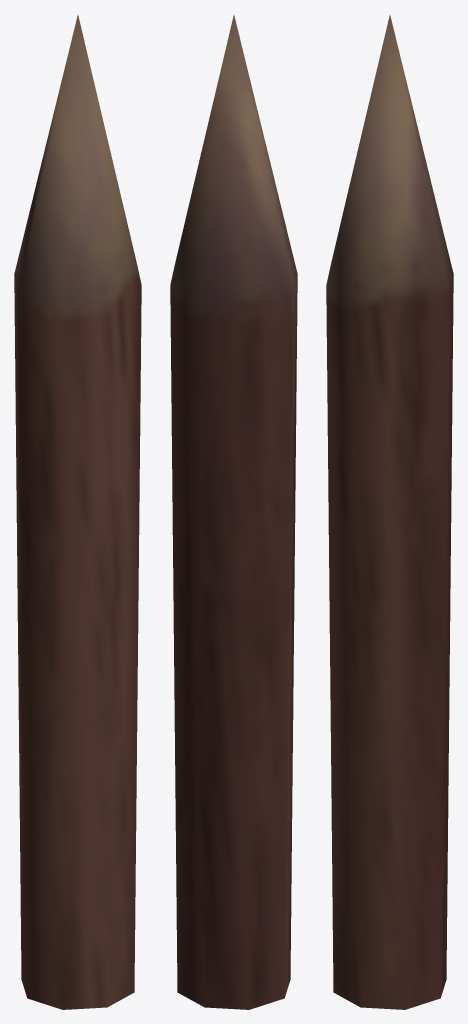
Rendered from WoodFence002.fbx.
3 renders of one model, left to right at view 1: azimuth 30°, elevation 25°; view 2: azimuth 150°, elevation 25°; view 3: azimuth 330°, elevation 25°, orthographic.
Visible parts, largest first — view 1: woodfence2; view 2: woodfence2; view 3: woodfence2.
Boxes of the visible parts, left/top/right/bottom form: woodfence2: left=14, top=15, right=141, bottom=1009; woodfence2: left=170, top=15, right=297, bottom=1009; woodfence2: left=326, top=15, right=453, bottom=1009.
Bounding box in the file's own units: 0.3319 × 2.6 × 0.3077.
Materials: 1 (1 with a texture image).
